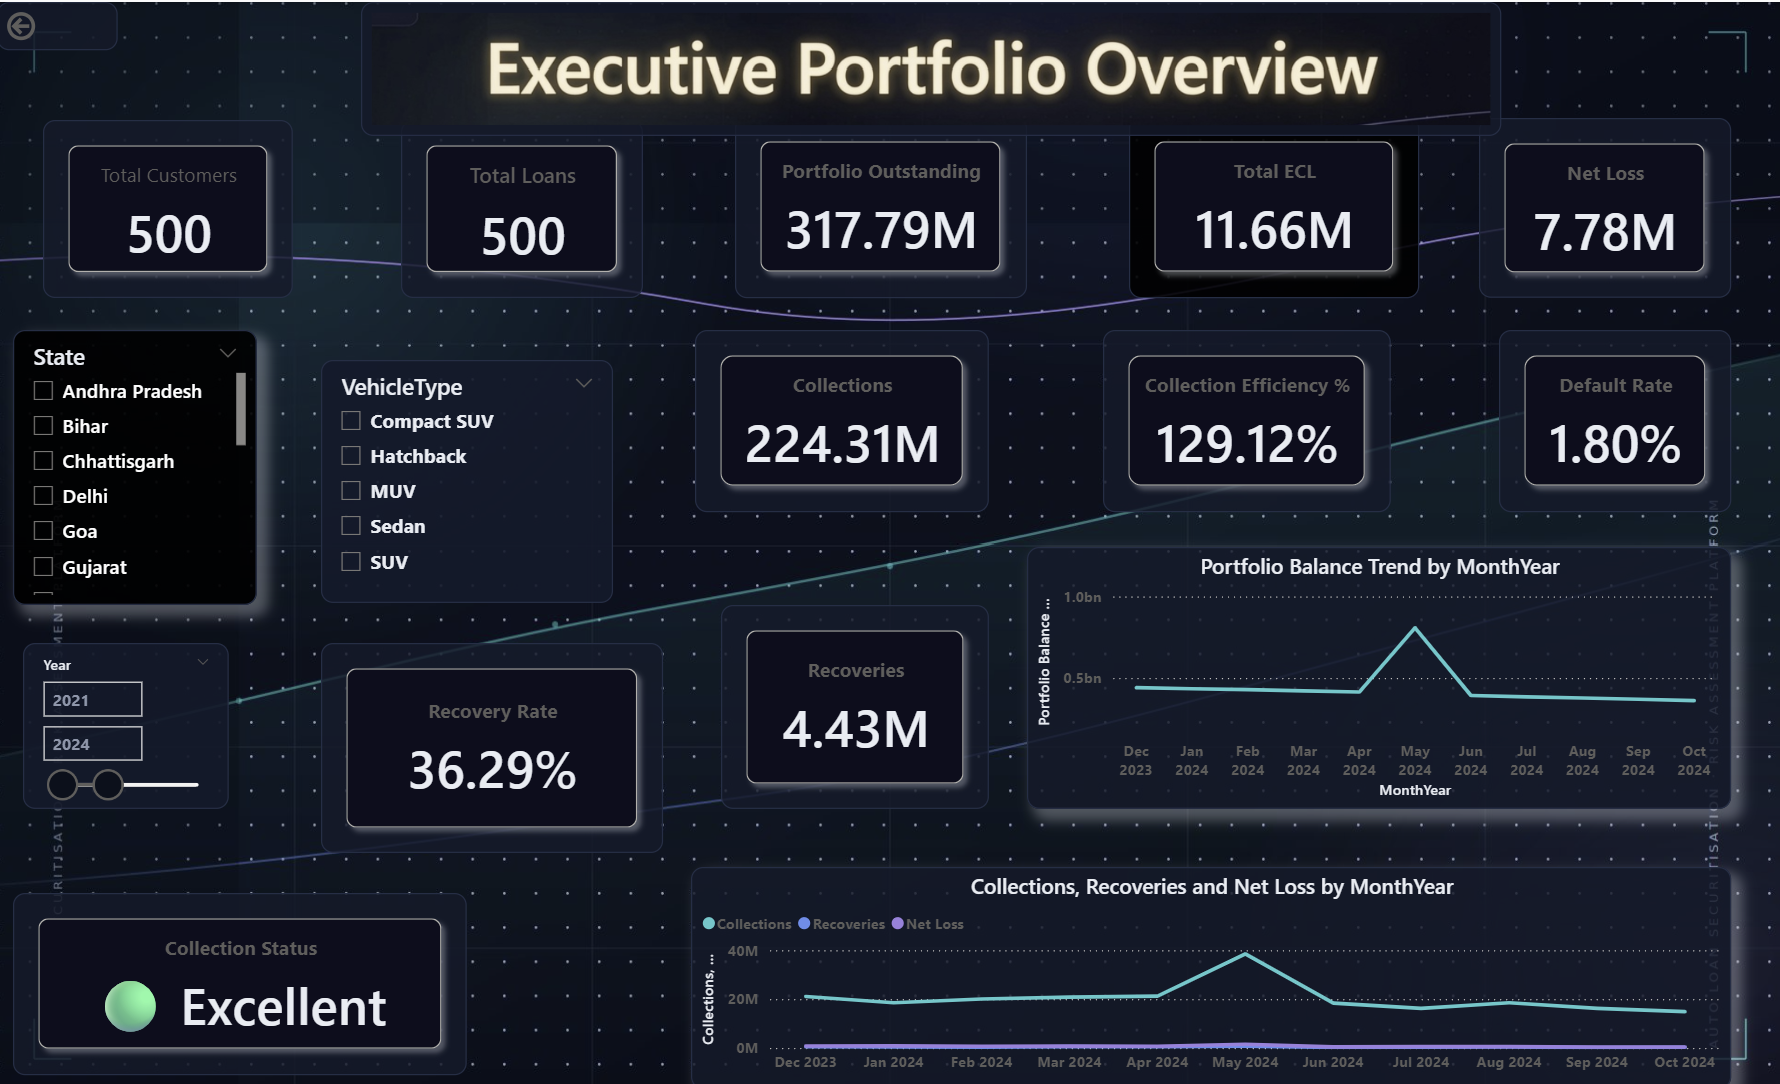

Layout of this report page (visuals, bound fields, positions):
{"tool":"powerbi","page":{"name":"Page 1","canvas":[1480,900],"ordinal":0},"visuals":[{"type":"cardVisual","fields":{"Data":["DateTable.Total Customers"]},"box":[38.1,97.8,207.2,147.5],"z":0},{"type":"cardVisual","fields":{"Data":["DateTable.Total Loans"]},"box":[334.8,97.8,200.6,147.5],"z":1000},{"type":"cardVisual","fields":{"Data":["DateTable.Collection Efficiency %"]},"box":[916.6,271.8,238.7,150.8],"z":2000},{"type":"cardVisual","fields":{"Data":["DateTable.Total ECL"]},"box":[938.1,94.5,240.3,150.8],"z":3000},{"type":"cardVisual","fields":{"Data":["DateTable.Net Loss"]},"box":[1228.2,96.1,208.8,149.2],"z":4000},{"type":"cardVisual","fields":{"Data":["DateTable.Default Rate"]},"box":[1244.8,271.8,192.3,150.8],"z":5000},{"type":"cardVisual","fields":{"Data":["DateTable.Collection Status"]},"box":[13.3,737.6,376.2,150.8],"z":6000},{"type":"cardVisual","fields":{"Data":["DateTable.Recovery Rate"]},"box":[268.5,530.4,283.4,174],"z":7000},{"type":"cardVisual","fields":{"Data":["DateTable.Collections"]},"box":[578.5,271.8,243.6,150.8],"z":8000},{"type":"cardVisual","fields":{"Data":["DateTable.Recoveries"]},"box":[600,498.9,222.1,169.1],"z":9000},{"type":"lineChart","fields":{"Category":["DateTable.MonthYear"],"Y":["DateTable.Portfolio Balance Trend"]},"box":[853.6,450.8,583.4,217.1],"z":10000},{"type":"slicer","fields":{"Values":["DateTable.Year"]},"box":[21.5,530.4,170.7,137.6],"z":11000},{"type":"slicer","fields":{"Values":["auto_loan_securitisation_data.State"]},"box":[13.3,271.8,202.2,227.1],"z":12000},{"type":"actionButton","box":[0,0,100,40],"z":13000},{"type":"slicer","fields":{"Values":["auto_loan_securitisation_data.VehicleType"]},"box":[268.5,296.7,242,200.6],"z":14000},{"type":"lineChart","fields":{"Category":["DateTable.MonthYear"],"Y":["DateTable.Collections","DateTable.Recoveries","DateTable.Net Loss"]},"box":[575.1,716,861.9,184],"z":15000},{"type":"cardVisual","fields":{"Data":["DateTable.Portfolio Outstanding"]},"box":[611.6,94.5,242,150.8],"z":16000},{"type":"image","box":[301.7,0,944.8,111],"z":17000}]}

Visuals, with their boxes in screenshot pixels (x1, y1, x2, y2), scaled from the page's 1480x900 canvas onto the 1780x1084 screenshot:
cardVisual - DateTable.Total Customers: [left=46, top=118, right=295, bottom=295]
cardVisual - DateTable.Total Loans: [left=403, top=118, right=644, bottom=295]
cardVisual - DateTable.Collection Efficiency %: [left=1102, top=327, right=1389, bottom=509]
cardVisual - DateTable.Total ECL: [left=1128, top=114, right=1417, bottom=295]
cardVisual - DateTable.Net Loss: [left=1477, top=116, right=1728, bottom=295]
cardVisual - DateTable.Default Rate: [left=1497, top=327, right=1728, bottom=509]
cardVisual - DateTable.Collection Status: [left=16, top=888, right=468, bottom=1070]
cardVisual - DateTable.Recovery Rate: [left=323, top=639, right=664, bottom=848]
cardVisual - DateTable.Collections: [left=696, top=327, right=989, bottom=509]
cardVisual - DateTable.Recoveries: [left=722, top=601, right=989, bottom=805]
lineChart - DateTable.MonthYear x DateTable.Portfolio Balance Trend: [left=1027, top=543, right=1728, bottom=804]
slicer - DateTable.Year: [left=26, top=639, right=231, bottom=805]
slicer - auto_loan_securitisation_data.State: [left=16, top=327, right=259, bottom=601]
actionButton: [left=0, top=0, right=120, bottom=48]
slicer - auto_loan_securitisation_data.VehicleType: [left=323, top=357, right=614, bottom=599]
lineChart - DateTable.MonthYear x DateTable.Collections: [left=692, top=862, right=1728, bottom=1083]
cardVisual - DateTable.Portfolio Outstanding: [left=736, top=114, right=1027, bottom=295]
image: [left=363, top=0, right=1499, bottom=134]
